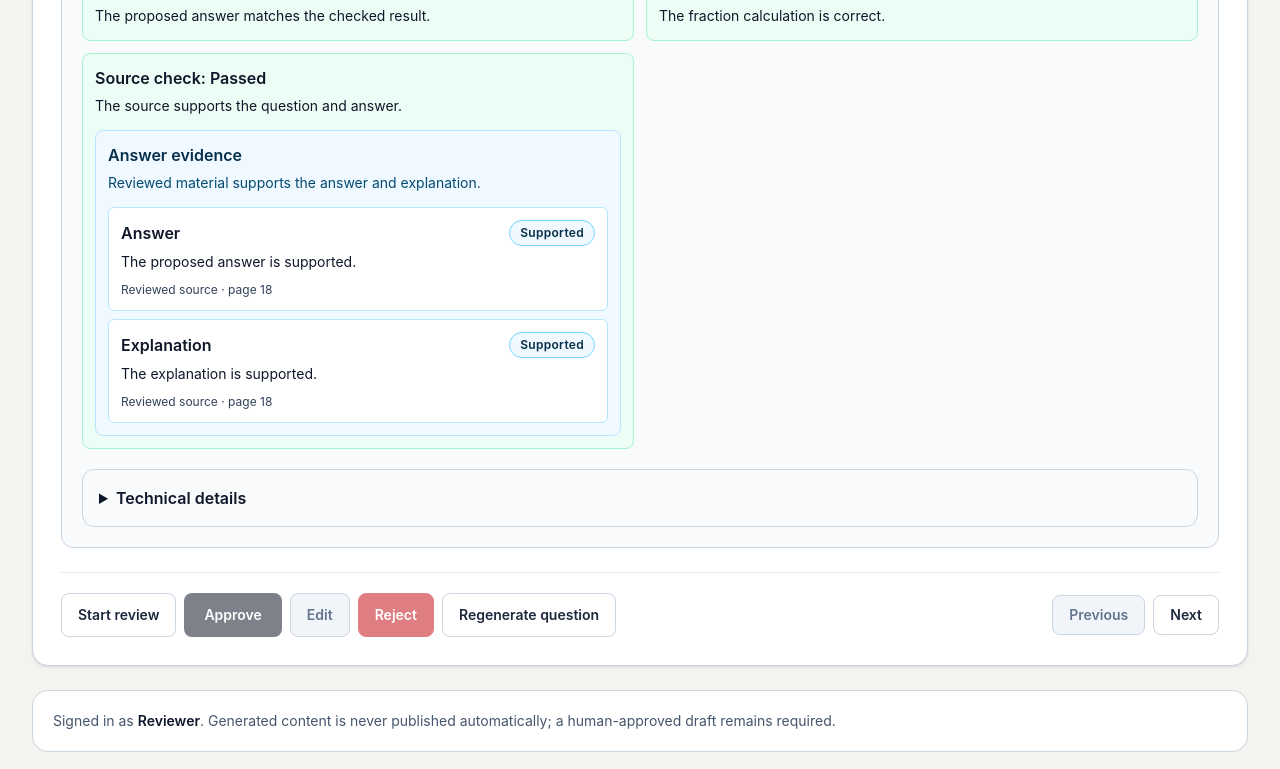
Test case: ReviewApproveStudio › starts and approves with the authoritative expected version
This screenshot has width=1280, height=769.
(page scrolled)
Click the button "Start review".
click(119, 615)  # box [61,593,176,637]
(page scrolled)
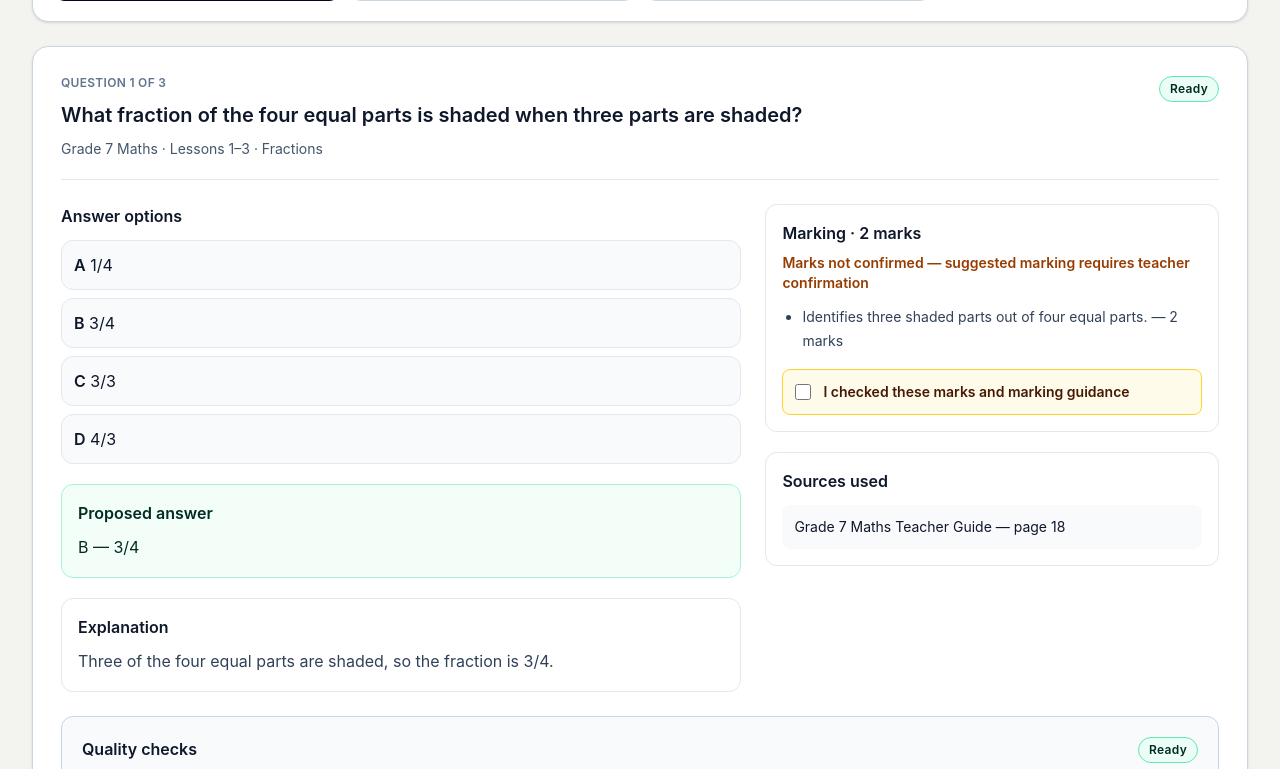
Click the checkbox labelled "I checked these marks and marking guidance".
click(803, 392)  # box [795,384,811,400]
(page scrolled)
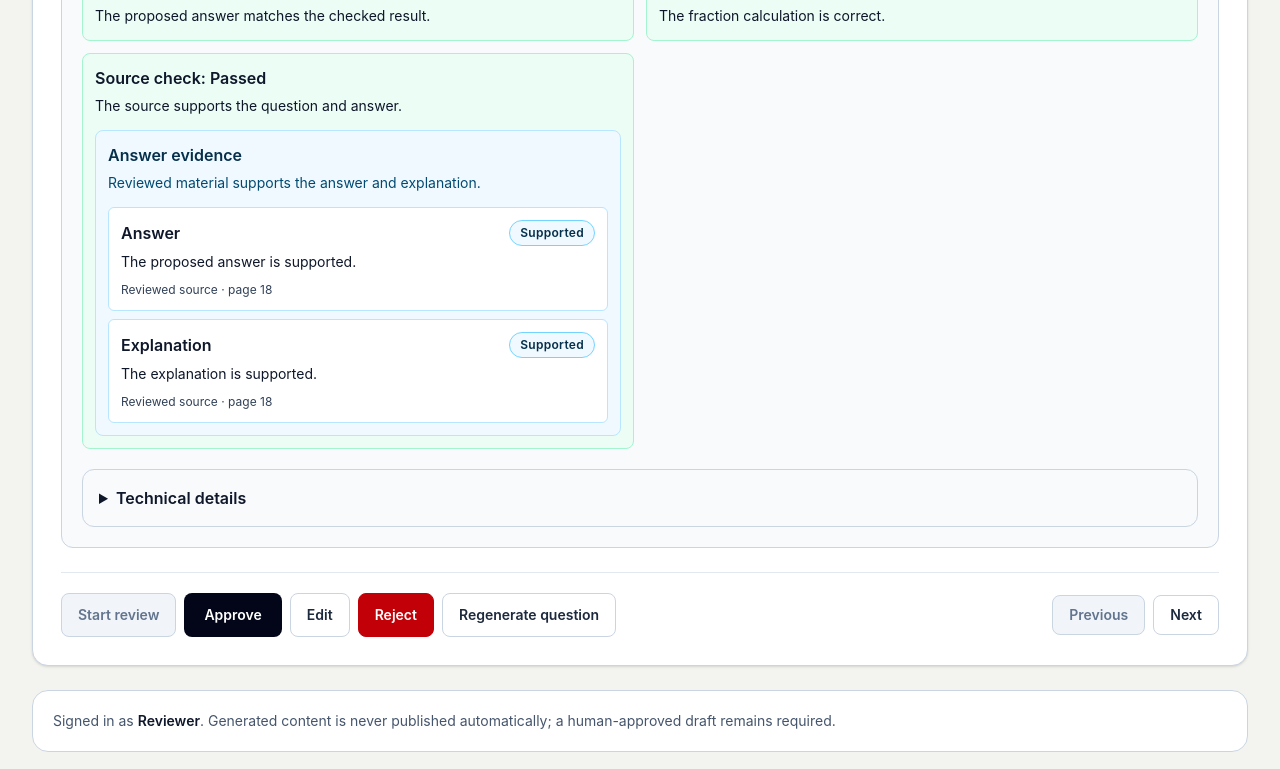
Click the button "Approve".
click(233, 615)  # box [184,593,282,637]
(page scrolled)
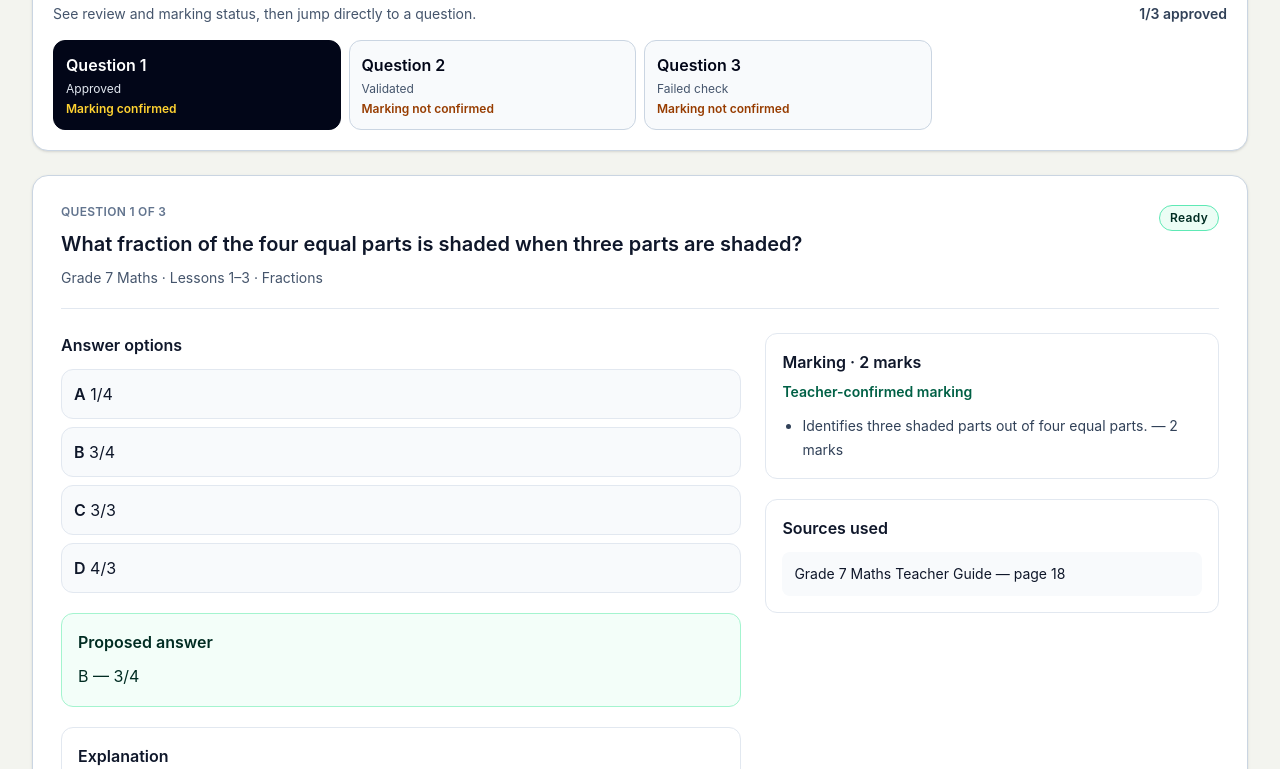
Check: the text "Teacher-confirmed marking" is shown, box [782,383,972,400]
